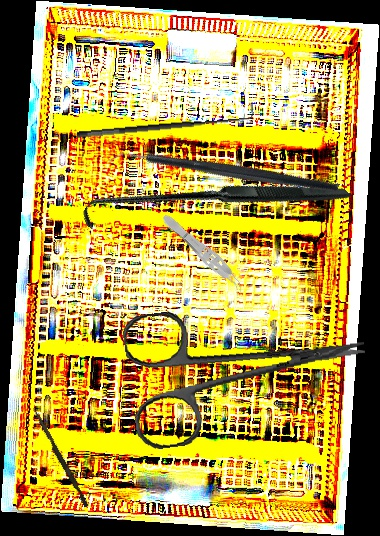Chopper: (107, 81, 340, 268)
Hook Surgical: (77, 70, 352, 343), (75, 102, 255, 141)
Iris Scissors: (120, 285, 375, 452)
Pusher: (28, 407, 92, 508)
Tissue Forceps: (157, 209, 251, 299)
